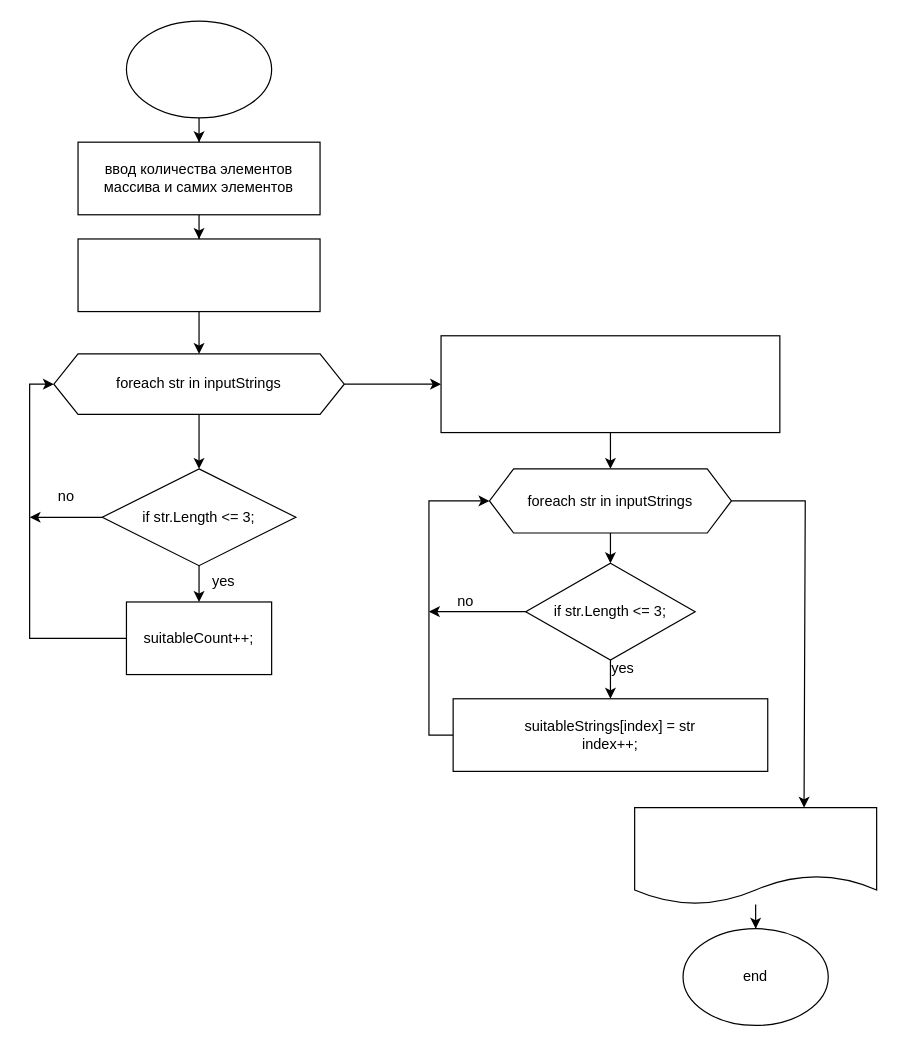
The diagram is 898 pixels wide and 1047 high, and some of its shapes have lost their labels. The centre of each missing label's shape, as x and y in pixels:
start: the point at 198,69
suitableCount = 0;: the point at 198,275
Вывод нового массива suitableStrings[]: the point at 755,855
Создание нового массива suitableStrings[] index = 0: the point at 610,384
